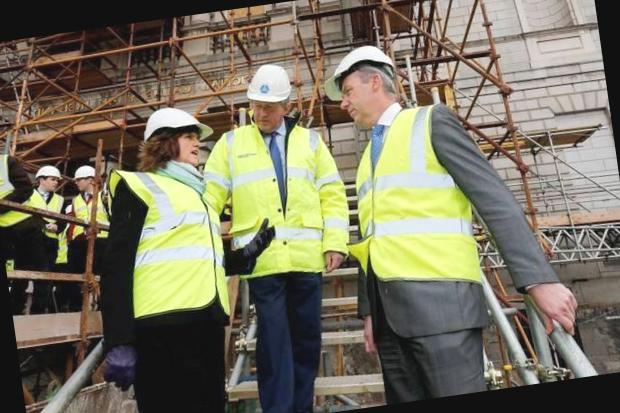helmet: (136, 99, 214, 155), (322, 37, 401, 91), (238, 59, 298, 111)
person: (321, 28, 513, 406), (186, 53, 381, 413), (79, 99, 252, 413)
